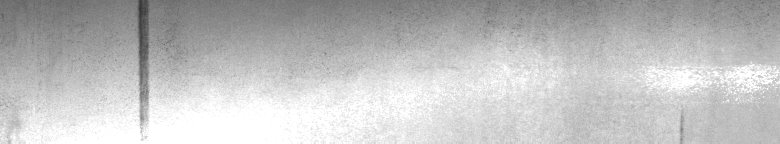hd: (124, 4, 171, 133)
